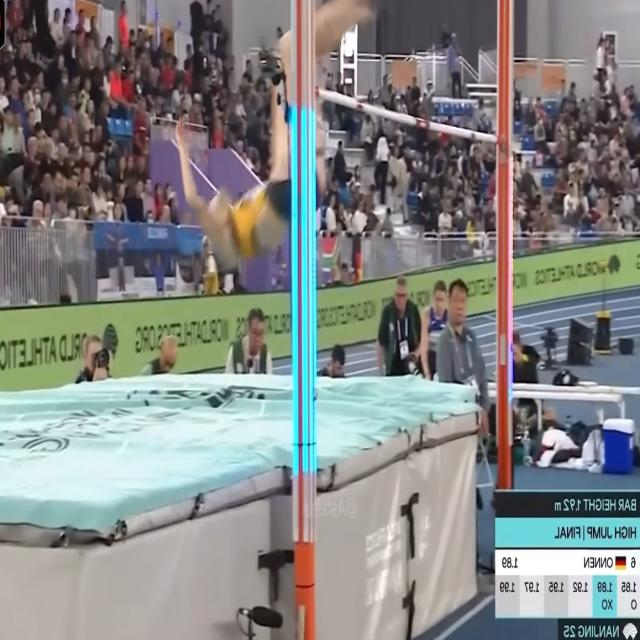land: (174, 0, 384, 273)
